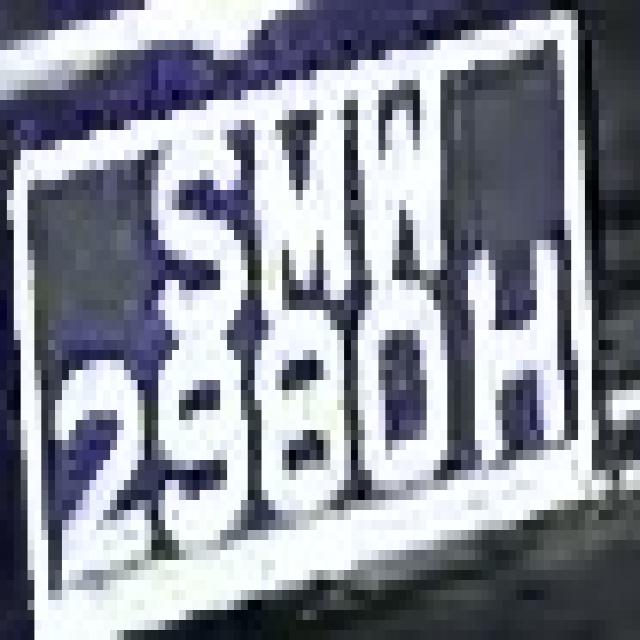0: (351, 260, 447, 490)
2: (42, 350, 152, 570)
8: (255, 330, 351, 530)
9: (138, 340, 255, 550)
H: (454, 230, 571, 470)
M: (234, 90, 351, 280)
S: (117, 110, 268, 360)
W: (338, 10, 440, 280)
